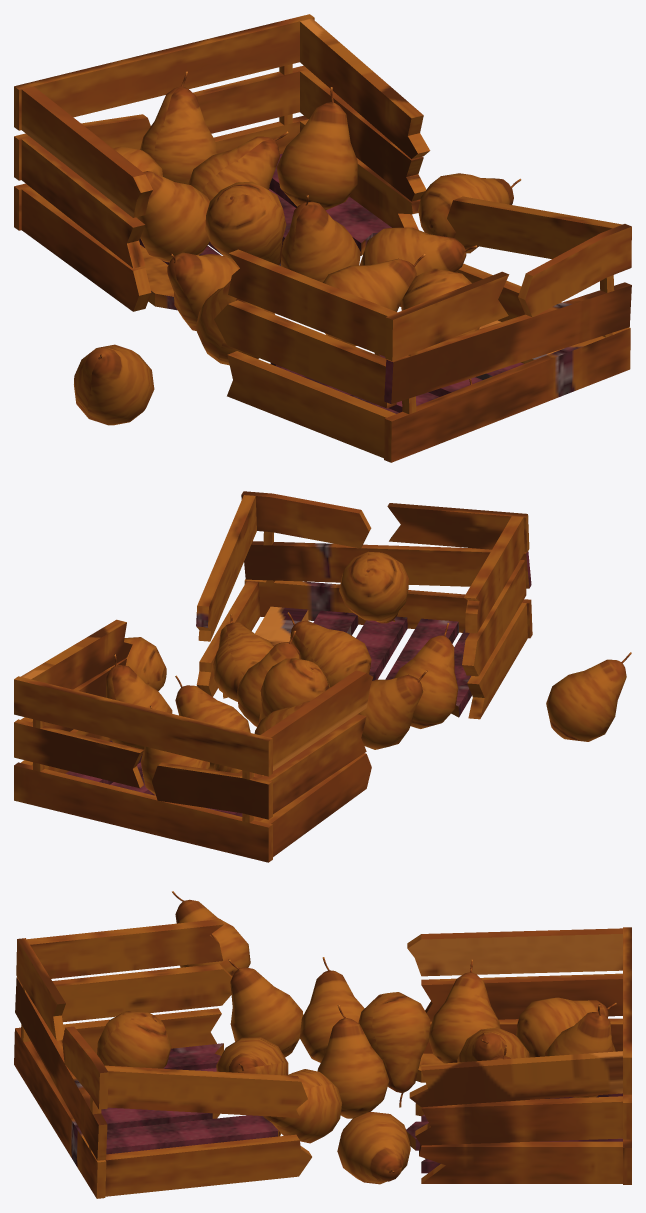
Rendered from broken fruit crate_5.fbx.
3 views of the same model, one above another, from view 1: azimuth 30°, elevation 25°; view 2: azimuth 150°, elevation 25°; view 3: azimuth 270°, elevation 25° (orthographic). The views are drawn at different scales.
Visible parts, largest first — view 1: Cube.032, Cube.035, Plane.1918, Plane.1916, Plane.1921, Plane.1925, Plane.1915, Plane.1929, Plane.1920, Plane.1927, Plane.1924, Plane.1928 (+4 smaller); view 2: Cube.035, Cube.032, Plane.1916, Plane.1914, Plane.1922, Plane.1928, Plane.1926, Plane.1921, Plane.1920, Plane.1927, Plane.1918, Plane.1929 (+3 smaller); view 3: Cube.032, Cube.035, Plane.1921, Plane.1929, Plane.1922, Plane.1924, Plane.1925, Plane.1914, Plane.1928, Plane.1920, Plane.1919, Plane.1926 (+3 smaller).
Part boxes in pixels (<box>): Cube.032: <box>214,196,631,462</box>; Cube.035: <box>14,14,430,311</box>; Plane.1918: <box>276,87,357,210</box>; Plane.1916: <box>74,344,154,425</box>; Plane.1921: <box>205,181,286,265</box>; Plane.1925: <box>136,171,209,262</box>; Plane.1915: <box>140,71,217,184</box>; Plane.1929: <box>281,194,360,282</box>; Plane.1920: <box>359,227,477,306</box>; Plane.1927: <box>188,131,288,201</box>; Plane.1924: <box>418,173,521,253</box>; Plane.1928: <box>167,252,239,330</box>; Cube.035: <box>14,619,372,862</box>; Cube.032: <box>196,491,532,719</box>; Plane.1916: <box>546,652,631,741</box>; Plane.1914: <box>339,551,408,623</box>; Plane.1922: <box>394,623,458,728</box>; Plane.1928: <box>358,670,427,749</box>; Plane.1926: <box>287,612,371,687</box>; Plane.1921: <box>258,658,330,724</box>; Plane.1920: <box>213,614,273,701</box>; Plane.1927: <box>175,675,250,769</box>; Plane.1918: <box>106,654,172,753</box>; Plane.1929: <box>237,630,300,726</box>; Cube.032: <box>14,919,311,1198</box>; Cube.035: <box>406,927,631,1184</box>; Plane.1921: <box>358,992,430,1107</box>; Plane.1929: <box>317,1005,389,1118</box>; Plane.1922: <box>228,959,303,1057</box>; Plane.1924: <box>337,1112,410,1184</box>; Plane.1925: <box>429,959,500,1063</box>; Plane.1914: <box>97,1011,171,1068</box>; Plane.1928: <box>299,957,364,1062</box>; Plane.1920: <box>263,1069,341,1143</box>; Plane.1919: <box>516,997,616,1057</box>; Plane.1926: <box>216,1037,288,1075</box>.
Bounding box in the file's own units: 49.5 × 13.31 × 53.78.
